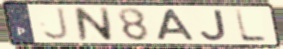8: (117, 7, 150, 43)
A: (154, 8, 197, 41)
J: (41, 6, 71, 42), (199, 8, 229, 42)
L: (232, 8, 269, 43)
N: (72, 6, 115, 42)
